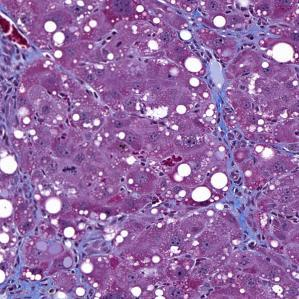fibrosis: (210, 96, 258, 239), (5, 228, 86, 296)
